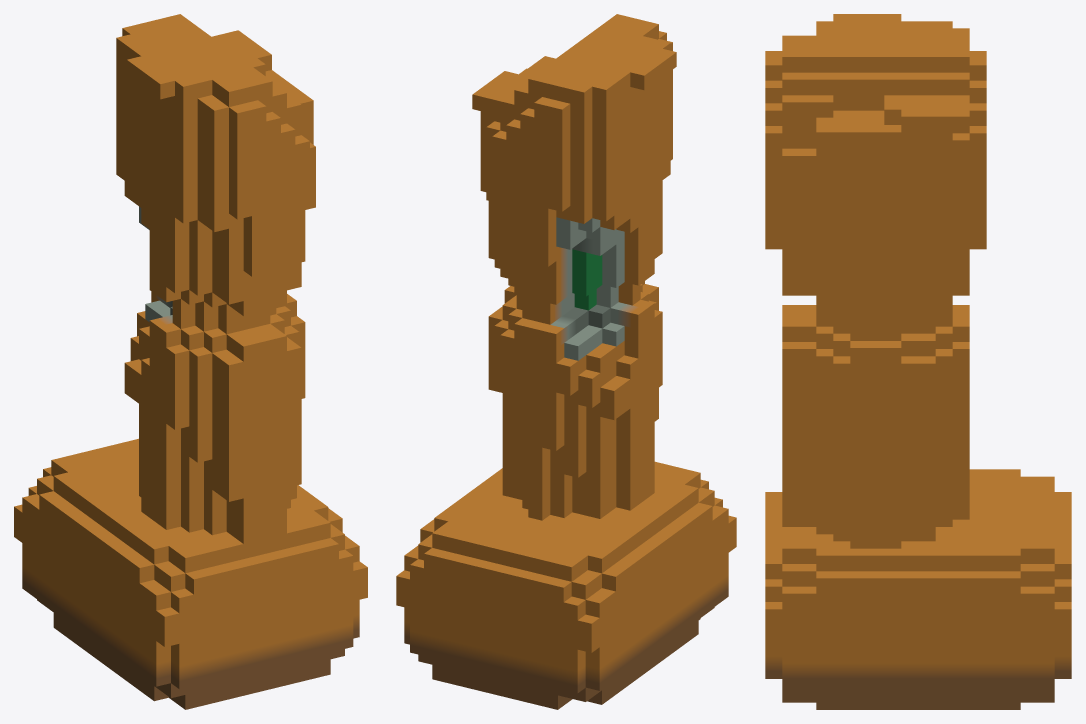
File: Enemy-4-BearRight.fbx
3 views of the same model, side by side, from view 1: azimuth 30°, elevation 25°; view 2: azimuth 150°, elevation 25°; view 3: azimuth 270°, elevation 25° (orthographic). The views are drawn at different scales.
Visible parts, largest first — view 1: BearRight; view 2: BearRight; view 3: BearRight.
Part boxes in pixels (<box>): BearRight: <box>14,14,367,709</box>; BearRight: <box>396,14,736,709</box>; BearRight: <box>765,14,1071,709</box>.
Size of the model in its own units: 14 by 40 by 18.
Materials: 1 (1 with a texture image).
